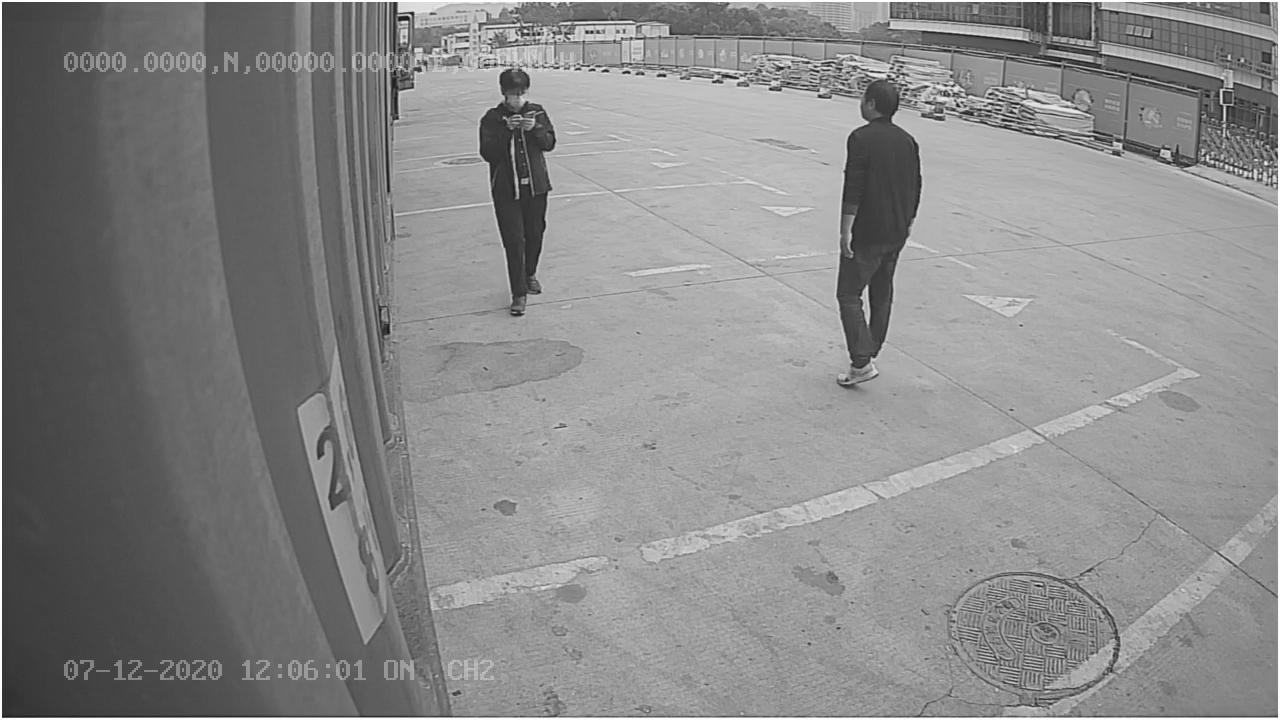person: (825, 73, 926, 386), (480, 66, 561, 317)
